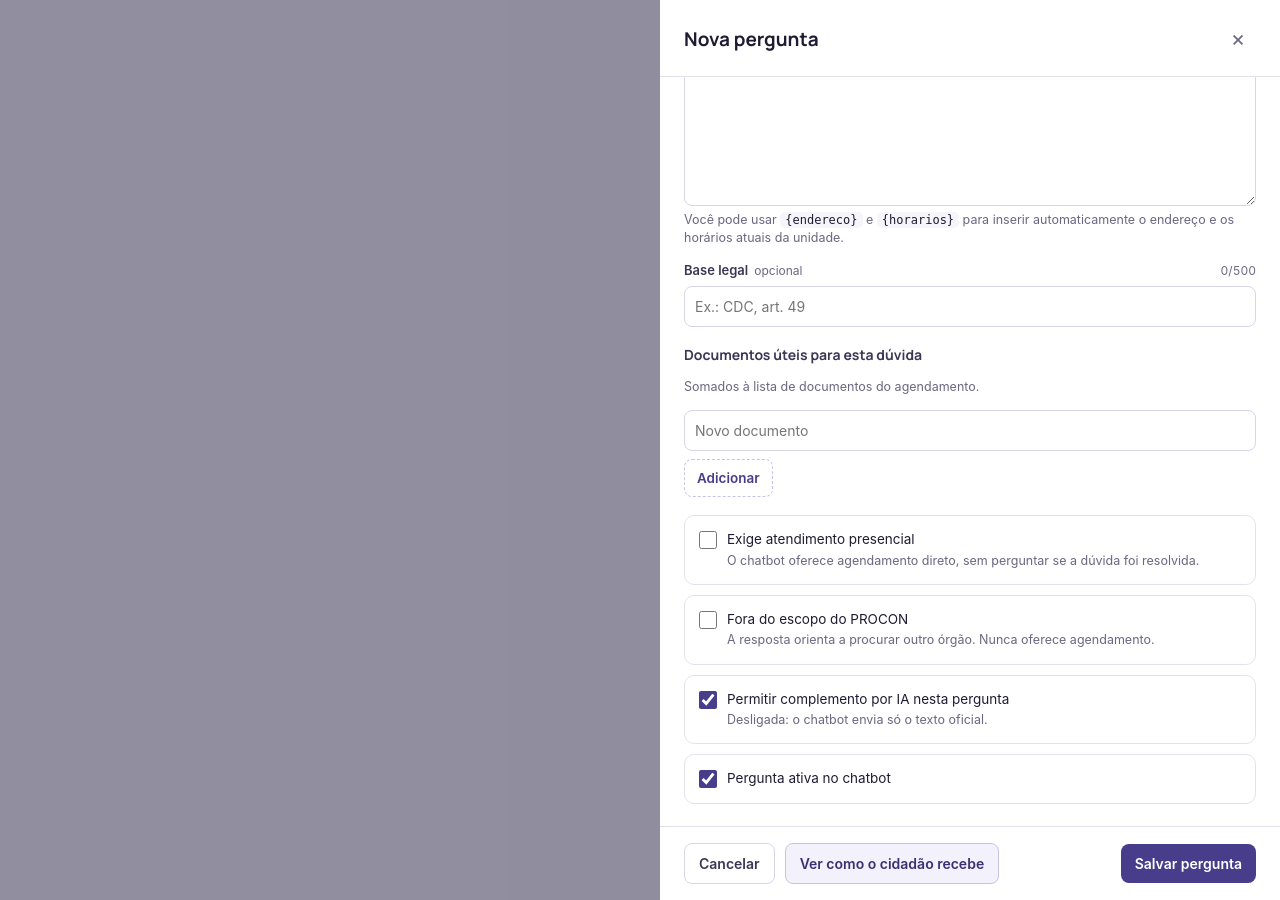
Test: ContentQuestionForm › desmarcar Fora do escopo religa a IA
(page scrolled)
Click the checkbox labelled "Fora do escopo do PROCON": (708, 620) [699,611,717,629]
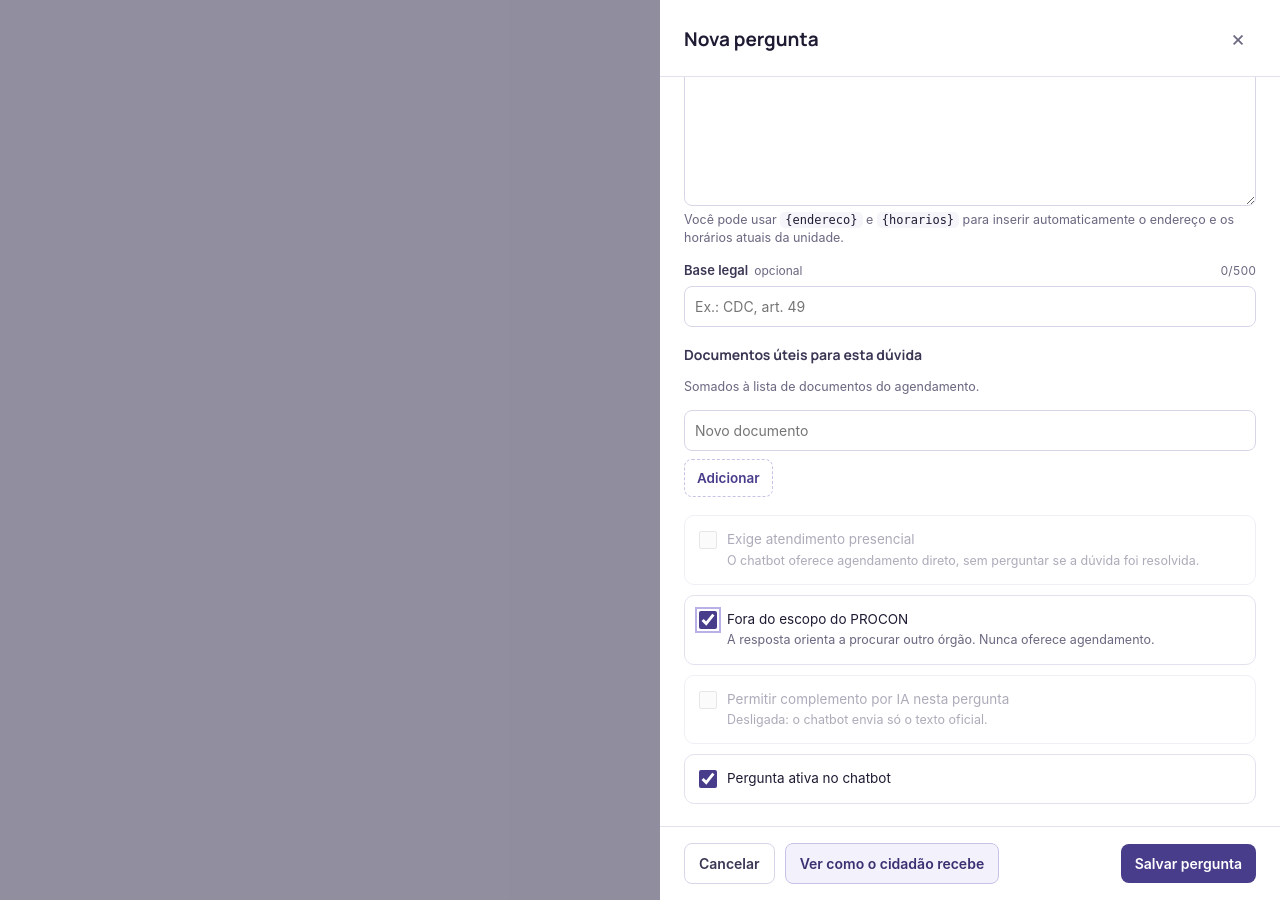
Click the checkbox labelled "Fora do escopo do PROCON": (708, 620) [699,611,717,629]
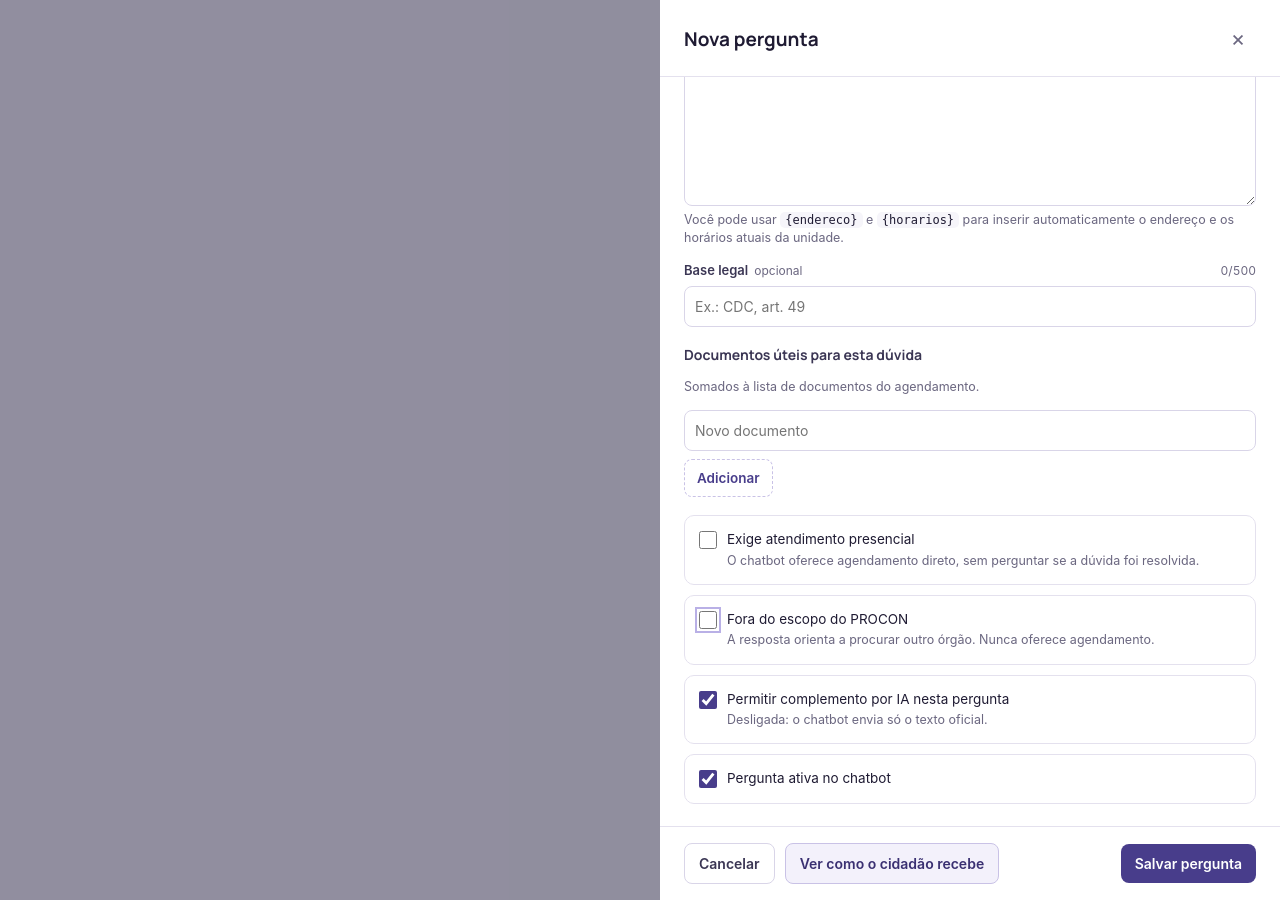
Result: the checkbox labelled "Permitir complemento por IA" is checked at [699,690,717,708]
Result: the checkbox labelled "Permitir complemento por IA" is enabled at [699,690,717,708]
